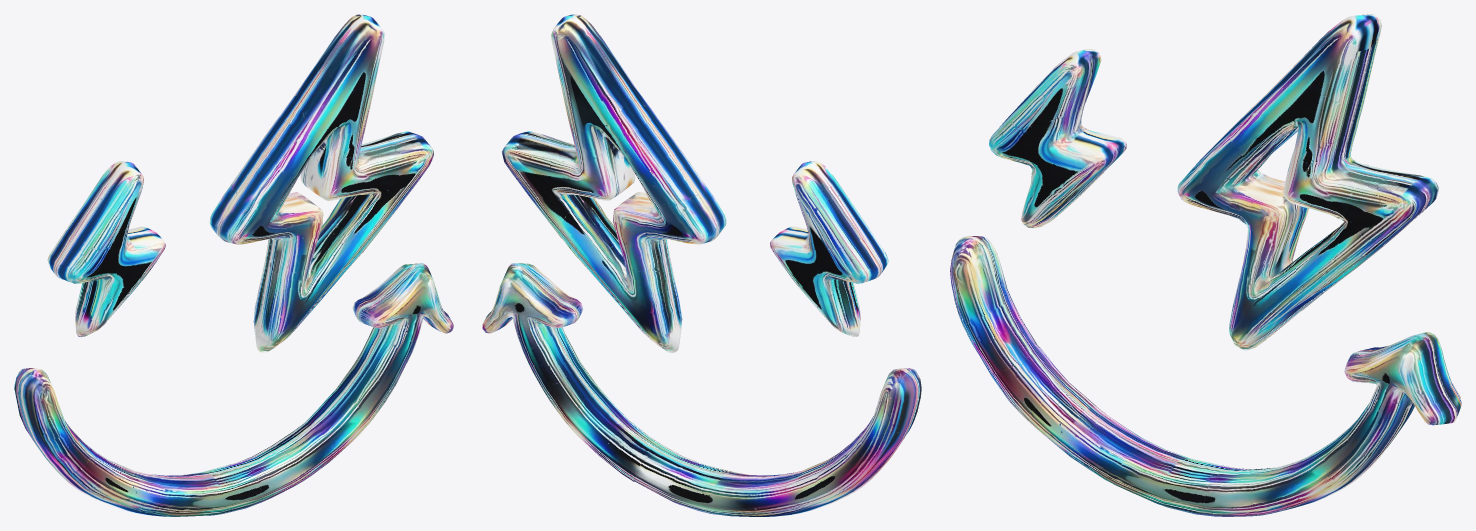
Rendered from iridescent-arc.glb.
3 views of the same model, side by side, from view 1: azimuth 30°, elevation 25°; view 2: azimuth 150°, elevation 25°; view 3: azimuth 330°, elevation 25° (orthographic). The views are drawn at different scales.
Bounding box in the file's own units: 1.87 × 1.9 × 0.2341.
1 material, 1 textured.
